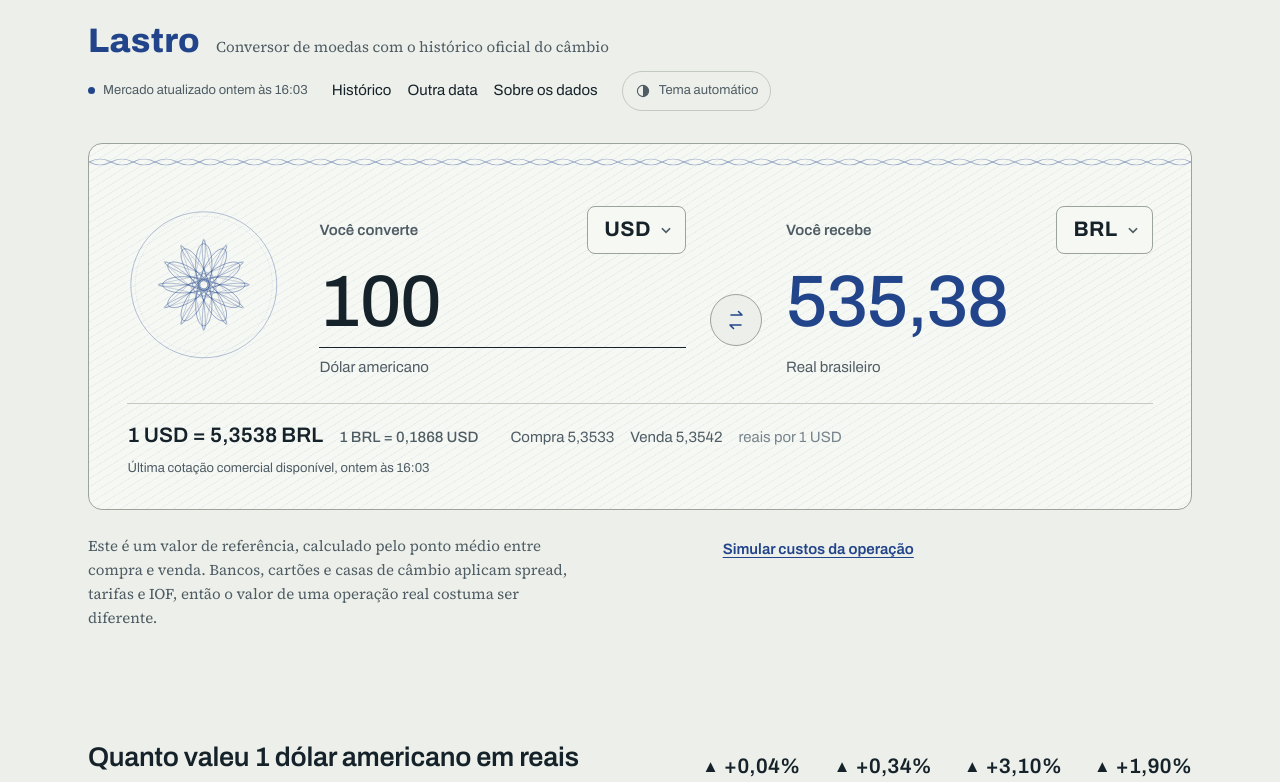
Test case: conversão › inverte as moedas e a taxa aplicada
Check: the text named "Você recebe" reads "535,38", box [786,262,1007,341]
Click the button named "Inverter".
click(736, 320)  # box [710,294,762,346]
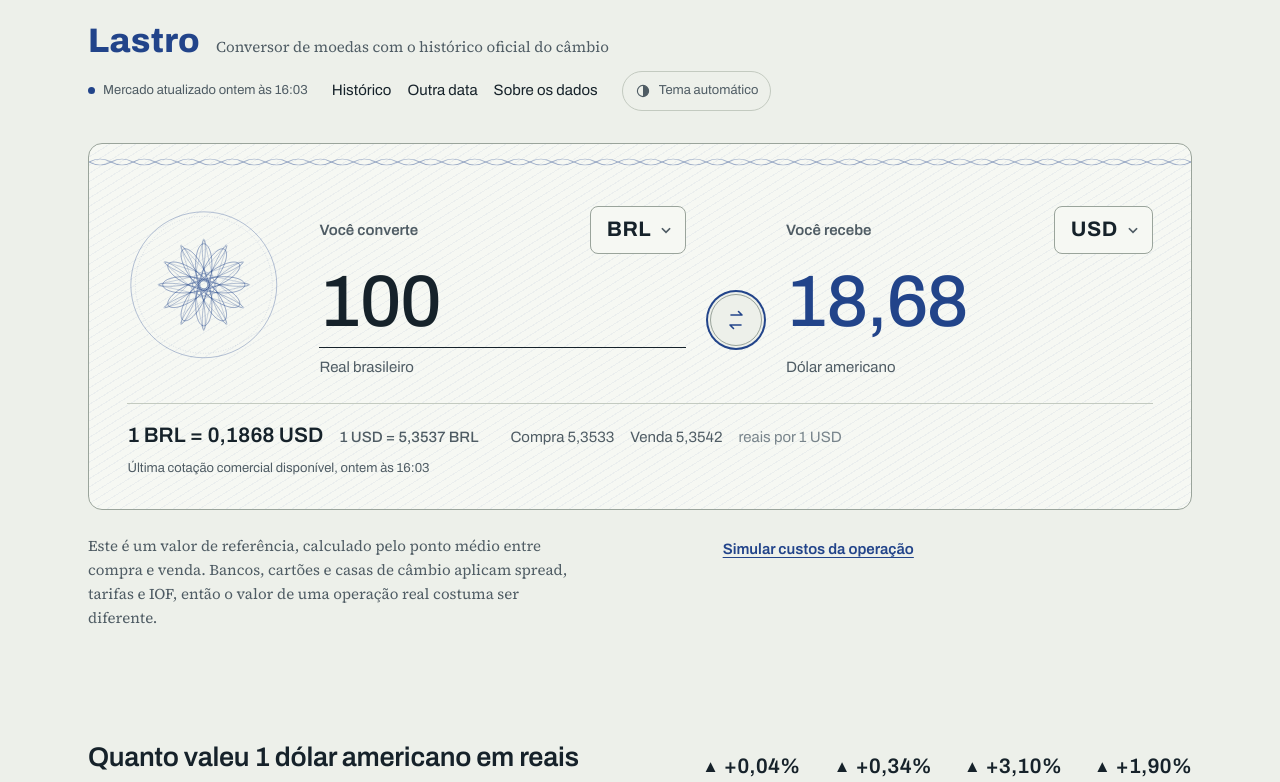
Check: the button with aria-label "Moeda de origem: Real brasileiro" is shown, box [590,206,686,254]
Check: the button with aria-label "Moeda de destino: Dólar americano" is shown, box [1054,206,1153,254]
Check: the text named "Você recebe" reads "18,68", box [786,262,967,341]
